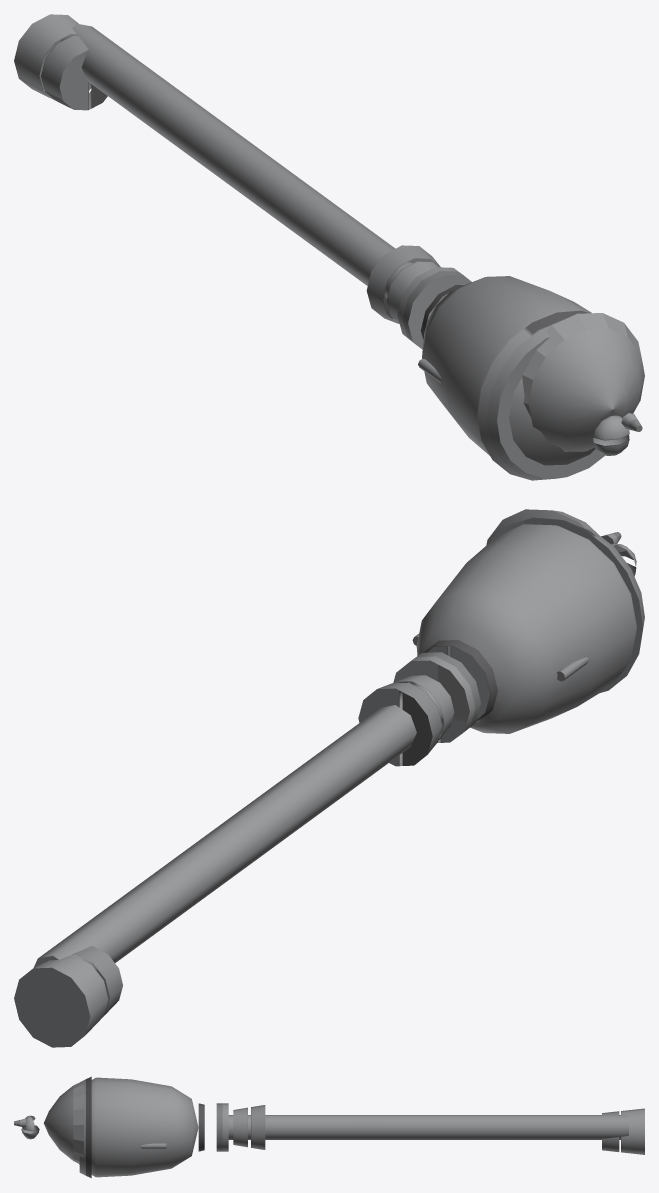
The picture shows the model from 3 angles, top to bottom: view 1: azimuth 30°, elevation 25°; view 2: azimuth 150°, elevation 25°; view 3: azimuth 270°, elevation 25°; orthographic projection. The views are drawn at different scales.
Size of the model in its own units: 0.353 by 0.353 by 2.16.
